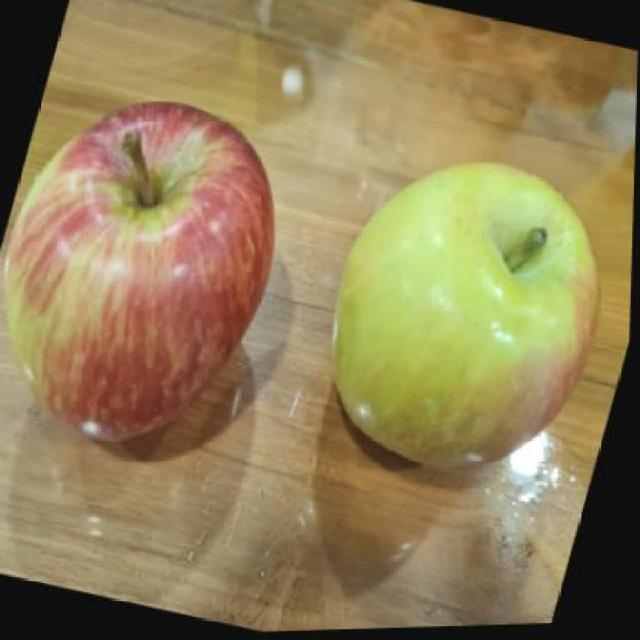Fresh Apple: (4, 106, 270, 450), (335, 162, 588, 476)
